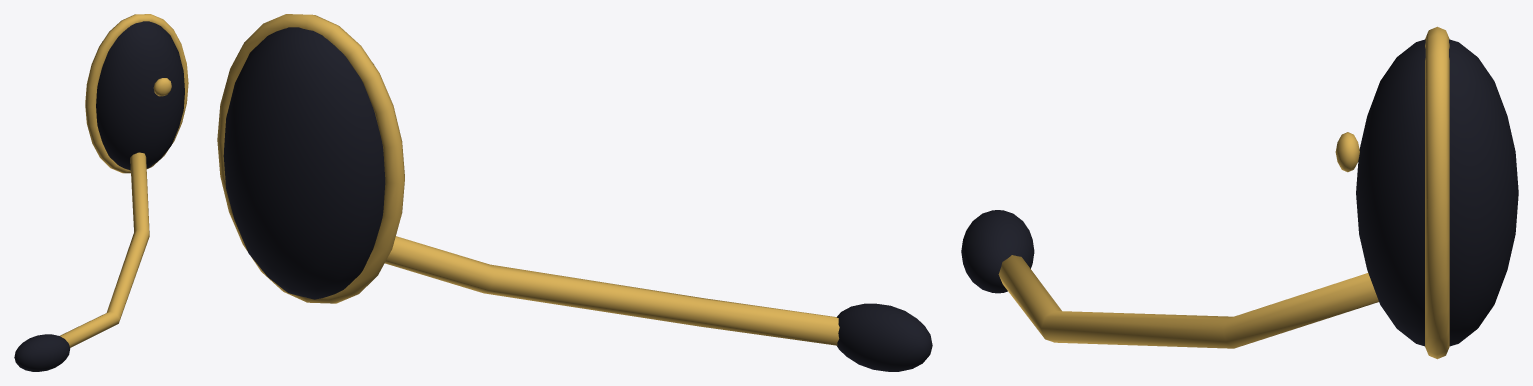
File: prime_headset_mic.glb
The picture shows the model from 3 angles, left to right: view 1: azimuth 30°, elevation 25°; view 2: azimuth 150°, elevation 25°; view 3: azimuth 270°, elevation 25°; orthographic projection. The views are drawn at different scales.
Visible parts, largest first — view 1: prime_headset_mic_dark, prime_headset_mic_metal, prime_headset_mic_gem; view 2: prime_headset_mic_dark, prime_headset_mic_metal; view 3: prime_headset_mic_dark, prime_headset_mic_metal, prime_headset_mic_gem.
Boxes of the visible parts, <box> form: prime_headset_mic_dark: <box>14,21,184,371</box>; prime_headset_mic_metal: <box>60,14,188,347</box>; prime_headset_mic_gem: <box>153,78,171,96</box>; prime_headset_mic_dark: <box>223,27,932,371</box>; prime_headset_mic_metal: <box>217,14,839,345</box>; prime_headset_mic_dark: <box>961,39,1518,346</box>; prime_headset_mic_metal: <box>998,26,1449,359</box>; prime_headset_mic_gem: <box>1335,132,1359,172</box>.
Bounding box in the file's own units: 0.08 × 0.061 × 0.0685.
